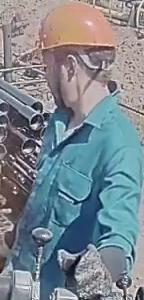gloves: (56, 243, 116, 300)
helmet: (38, 0, 117, 59)
vest: (1, 91, 142, 299)
